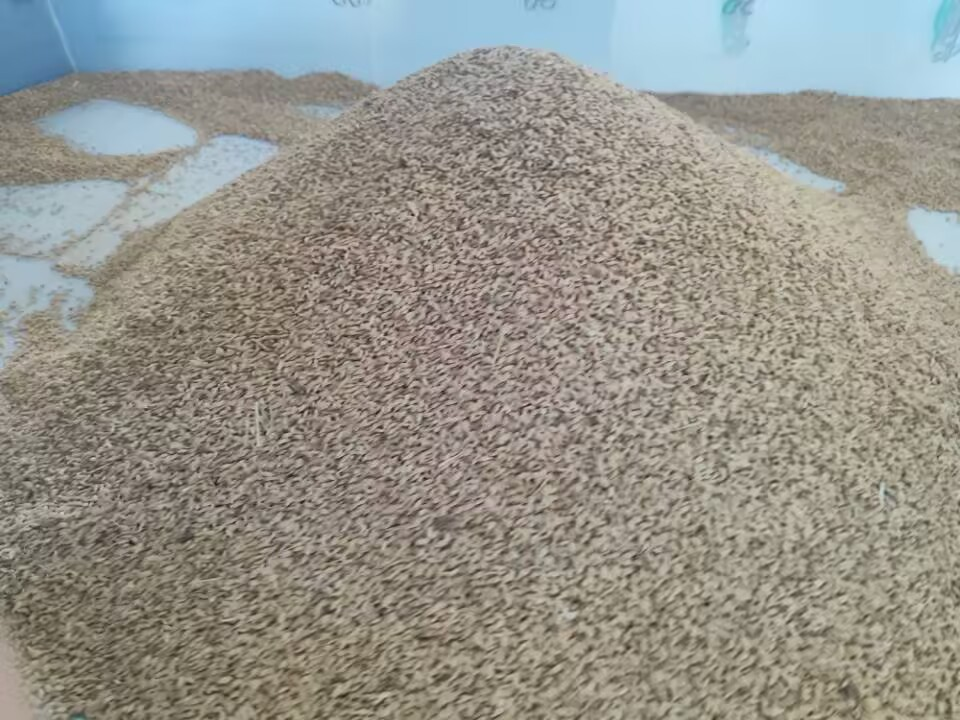Grain: (108, 25, 941, 674)
